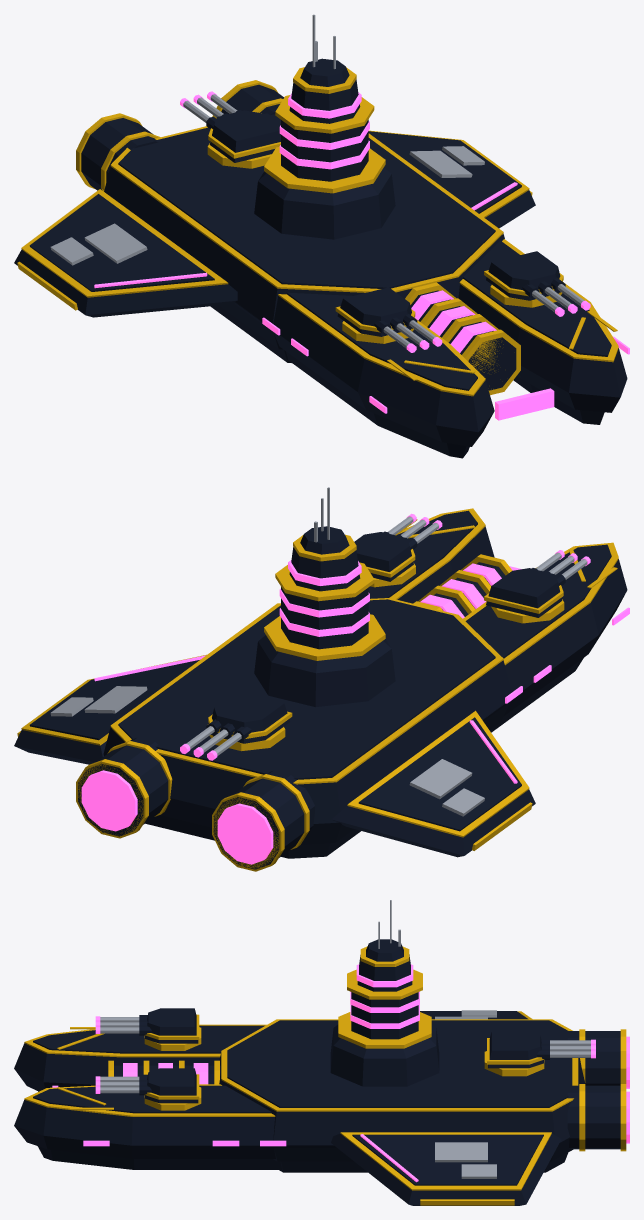
The model's file is boss_leviathan.glb.
The picture shows the model from 3 angles, top to bottom: view 1: azimuth 30°, elevation 25°; view 2: azimuth 150°, elevation 25°; view 3: azimuth 270°, elevation 25°; orthographic projection. The views are drawn at different scales.
Parts seen in each view (by area): view 1: boss_leviathan; view 2: boss_leviathan; view 3: boss_leviathan.
Boxes of the visible parts, x1=… form: boss_leviathan: x1=14, y1=14, x2=629, y2=458; boss_leviathan: x1=14, y1=487, x2=629, y2=871; boss_leviathan: x1=14, y1=900, x2=629, y2=1205.
Bounding box in the file's own units: 2.41 × 1.4 × 3.4.
